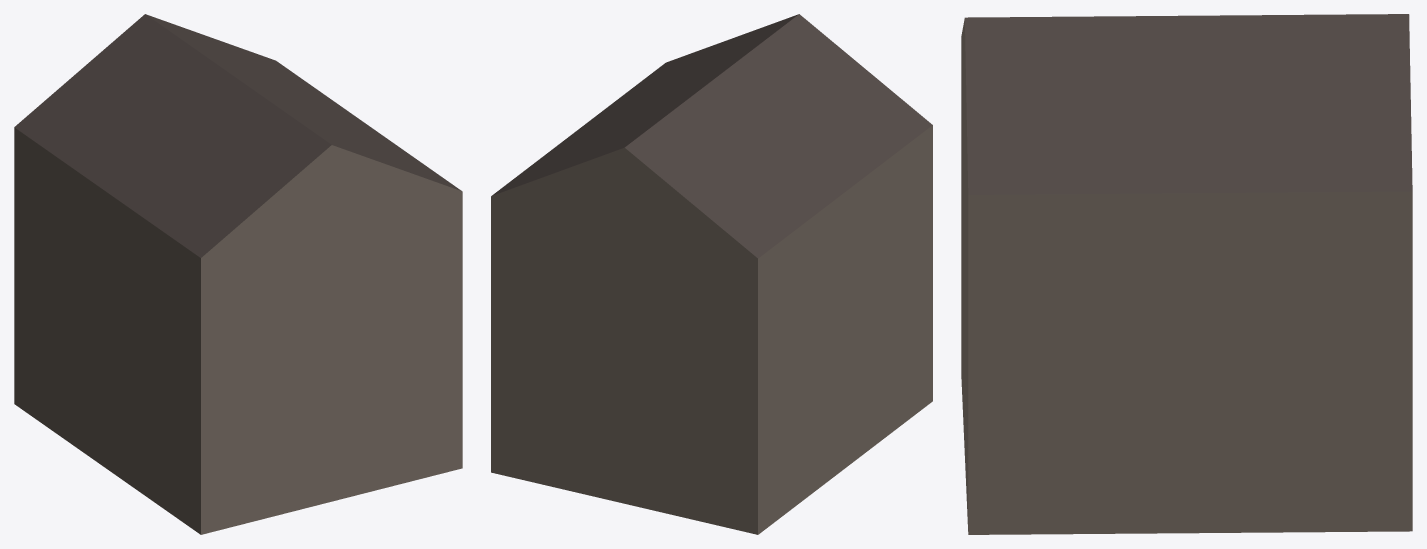
3 views of the same model, side by side, from view 1: azimuth 30°, elevation 25°; view 2: azimuth 150°, elevation 25°; view 3: azimuth 270°, elevation 25° (orthographic). The views are drawn at different scales.
Visible parts, largest first — view 1: HP-w858824284; view 2: HP-w858824284; view 3: HP-w858824284.
Boxes of the visible parts, x1,y1,x2,y2 form: HP-w858824284: (14, 14, 462, 534); HP-w858824284: (491, 14, 932, 534); HP-w858824284: (961, 14, 1412, 534).
Bounding box in the file's own units: 6.14 × 7.73 × 7.22.
